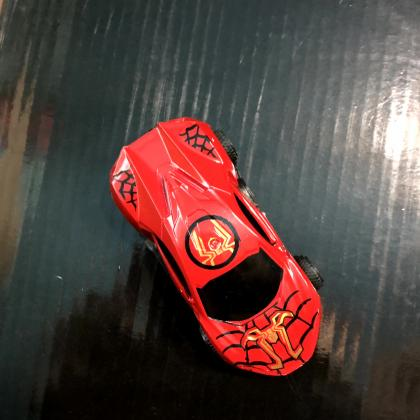Car: (109, 118, 322, 378)
